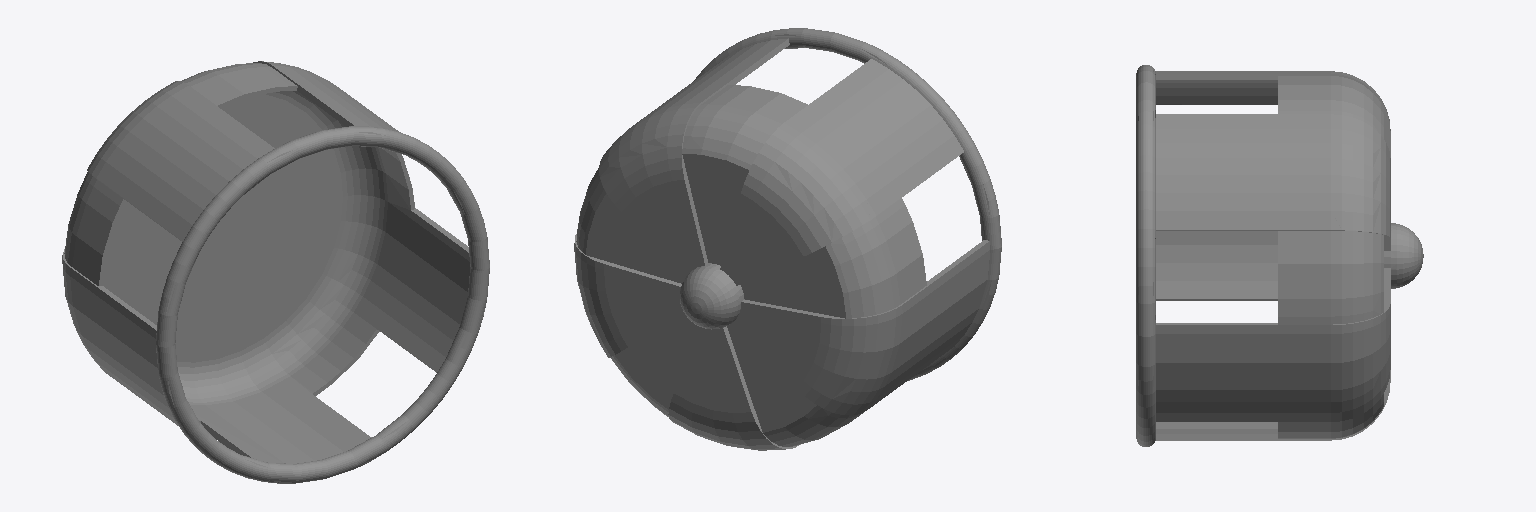
The model's file is TransportCart.obj.
3 views of the same model, side by side, from view 1: azimuth 30°, elevation 25°; view 2: azimuth 150°, elevation 25°; view 3: azimuth 270°, elevation 25° (orthographic).
Visible parts, largest first — view 1: TrainPart; view 2: TrainPart; view 3: TrainPart.
Part boxes in pixels (x1,y1,x2,y2): TrainPart: (62,61,489,483); TrainPart: (574,28,1001,450); TrainPart: (1136,65,1423,446).
Size of the model in its own units: 2283 by 2283 by 1713.